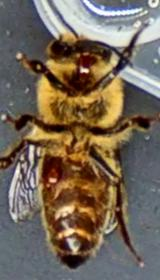varroa_mite: (40, 161, 70, 191)
